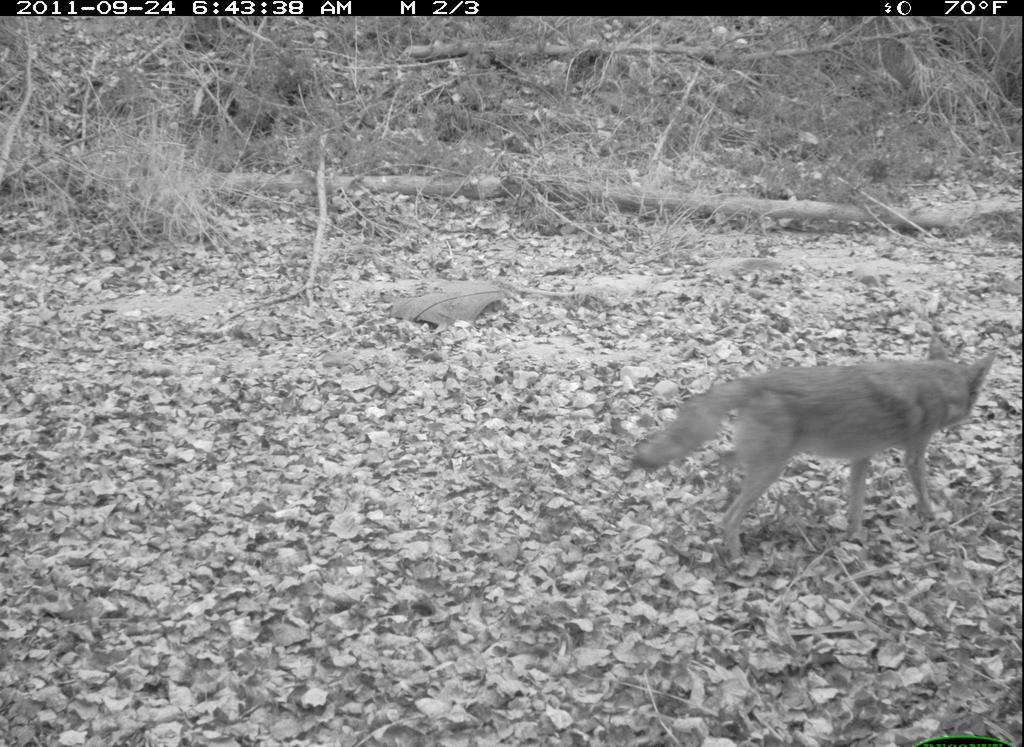coyote: (629, 332, 1003, 568)
